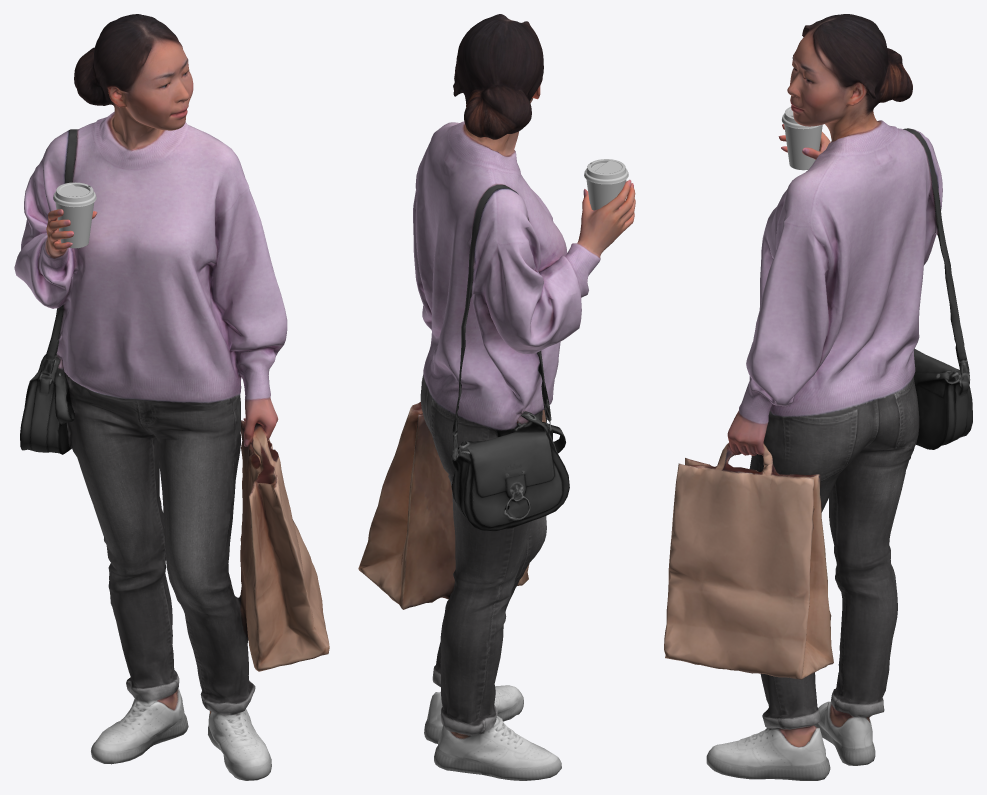
File: Humano_Posed_0835341-Woman_02_LOD1.fbx
3 views of the same model, side by side, from view 1: azimuth 30°, elevation 25°; view 2: azimuth 150°, elevation 25°; view 3: azimuth 270°, elevation 25° (orthographic). The views are drawn at different scales.
Visible parts, largest first — view 1: Humano_Posed_0835341-Woman_02_LOD1, Humano_Posed_0835341-Woman_Accessories-01_02_LOD1; view 2: Humano_Posed_0835341-Woman_02_LOD1, Humano_Posed_0835341-Woman_Accessories-01_02_LOD1; view 3: Humano_Posed_0835341-Woman_02_LOD1, Humano_Posed_0835341-Woman_Accessories-01_02_LOD1.
Part boxes in pixels (x1,y1,x2,y2): Humano_Posed_0835341-Woman_02_LOD1: [14, 14, 329, 780]; Humano_Posed_0835341-Woman_Accessories-01_02_LOD1: [53, 182, 96, 248]; Humano_Posed_0835341-Woman_02_LOD1: [358, 14, 635, 780]; Humano_Posed_0835341-Woman_Accessories-01_02_LOD1: [584, 159, 628, 210]; Humano_Posed_0835341-Woman_02_LOD1: [664, 14, 972, 780]; Humano_Posed_0835341-Woman_Accessories-01_02_LOD1: [782, 106, 822, 170].
Size of the model in its own units: 63.07 by 164 by 63.38.
